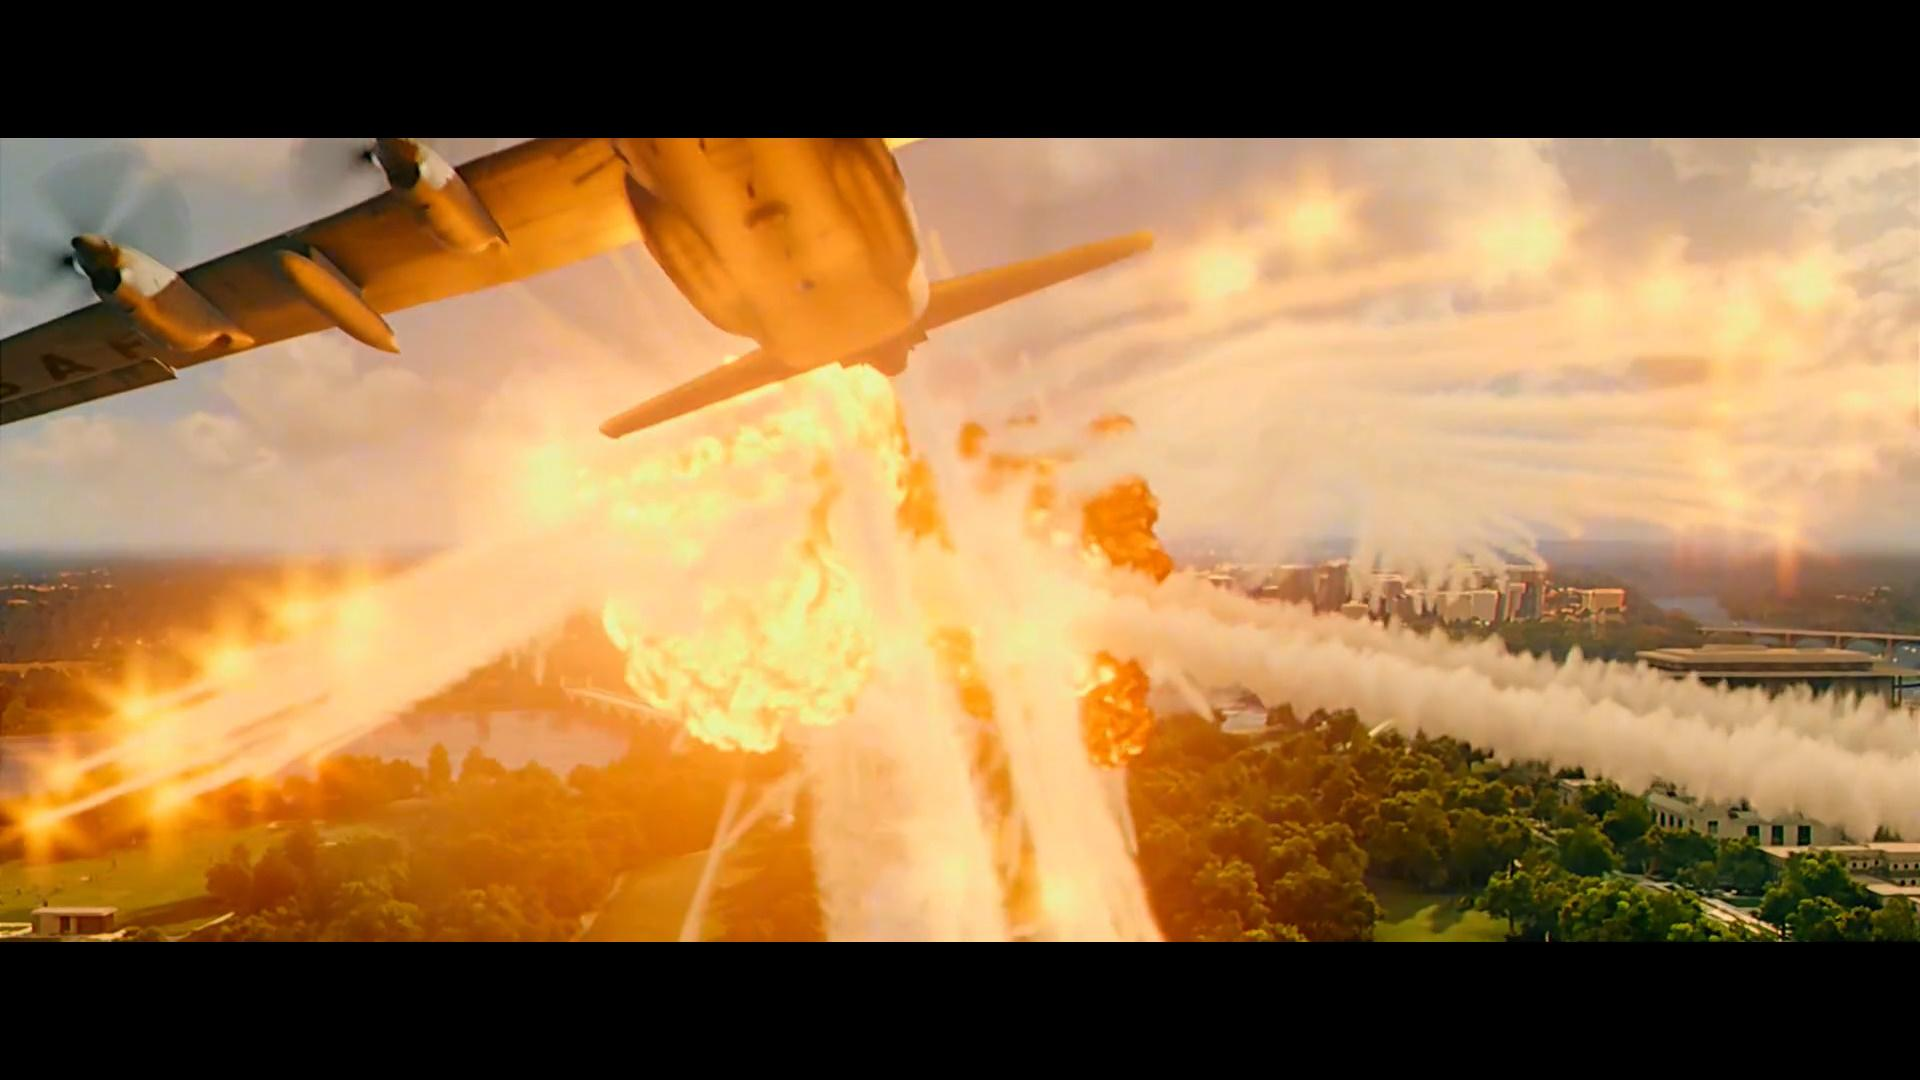fire: (580, 334, 1176, 785)
